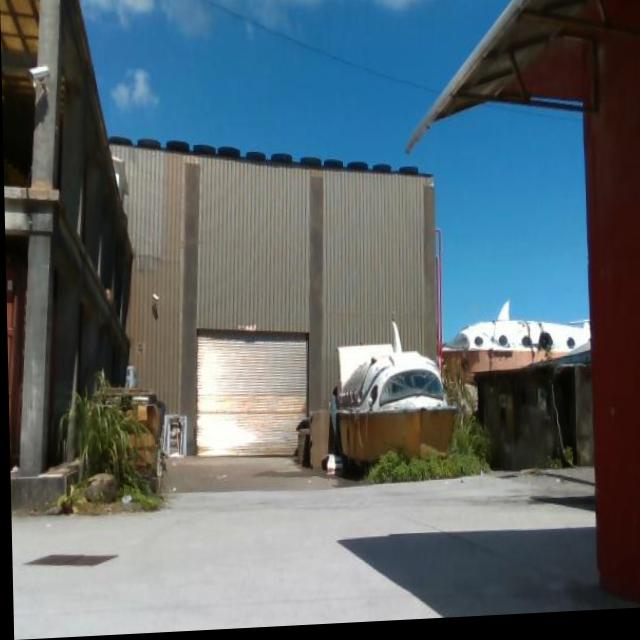pollute: (104, 360, 187, 497), (290, 411, 344, 480)
